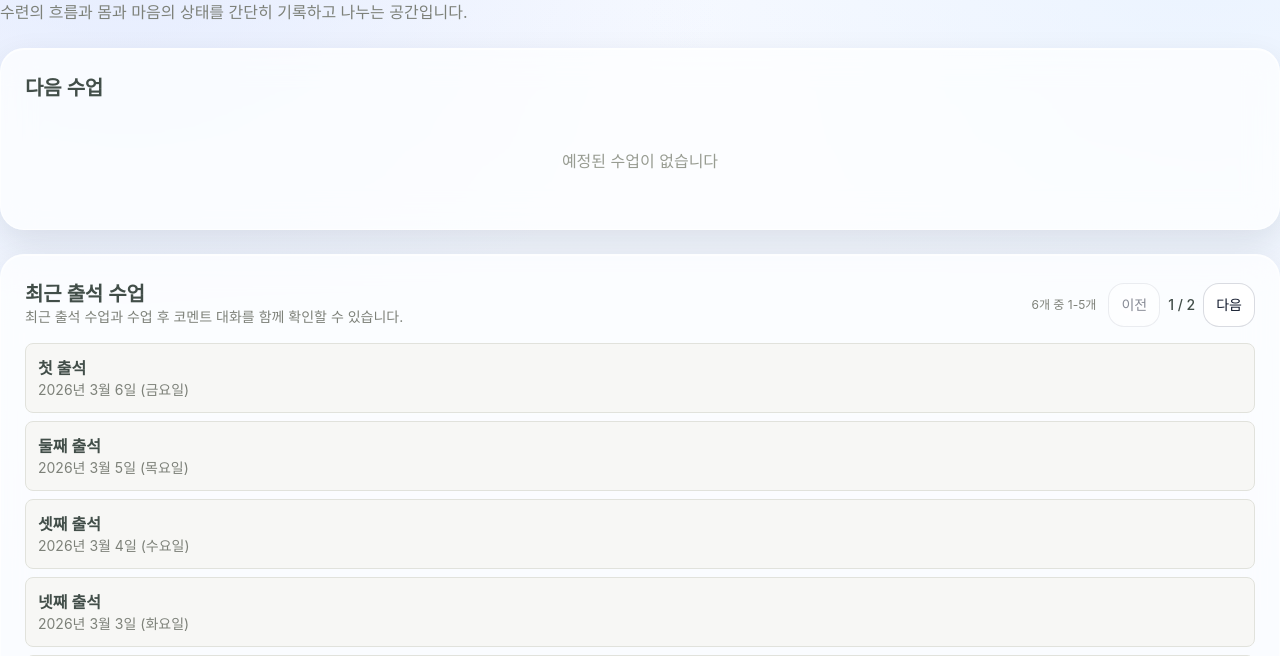
Scenario: CustomerDashboard page › falls back safely when a later attendance page payload is sparse
This screenshot has width=1280, height=656.
Check: the button "첫 출석" is shown, box [25,343,1255,413]
Click the button "다음": (1229, 305) [1203,283,1255,327]
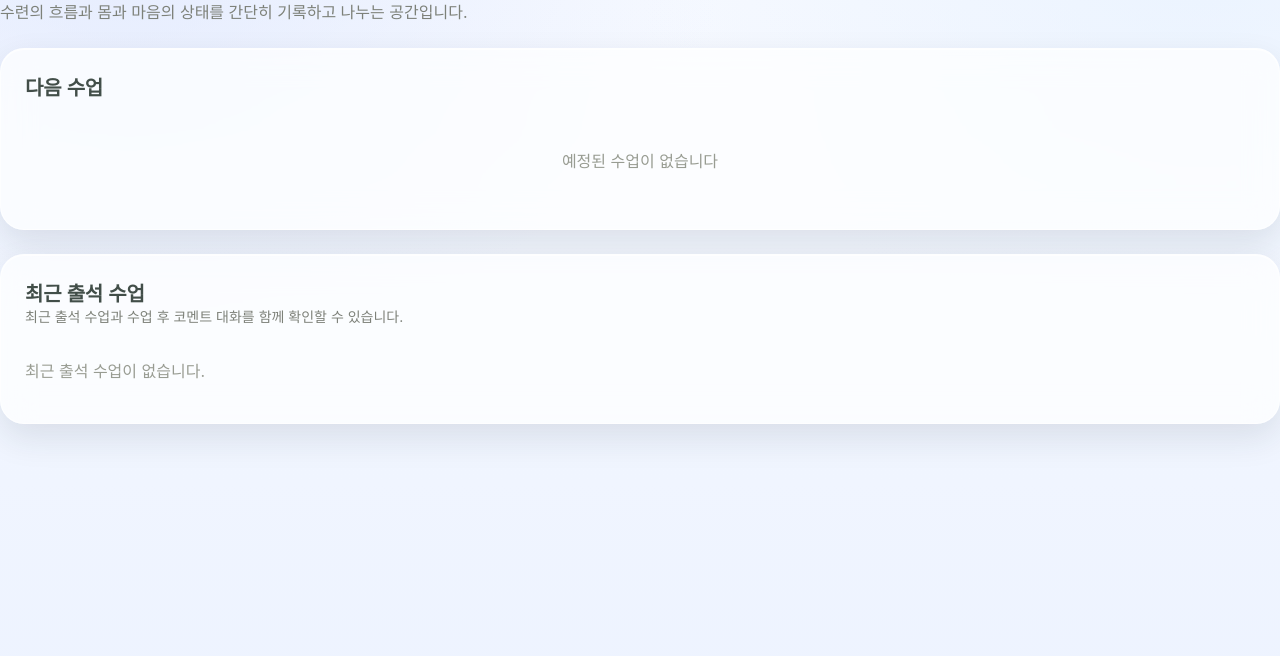
Check: the text "최근 출석 수업이 없습니다." is shown, box [25,361,205,381]
